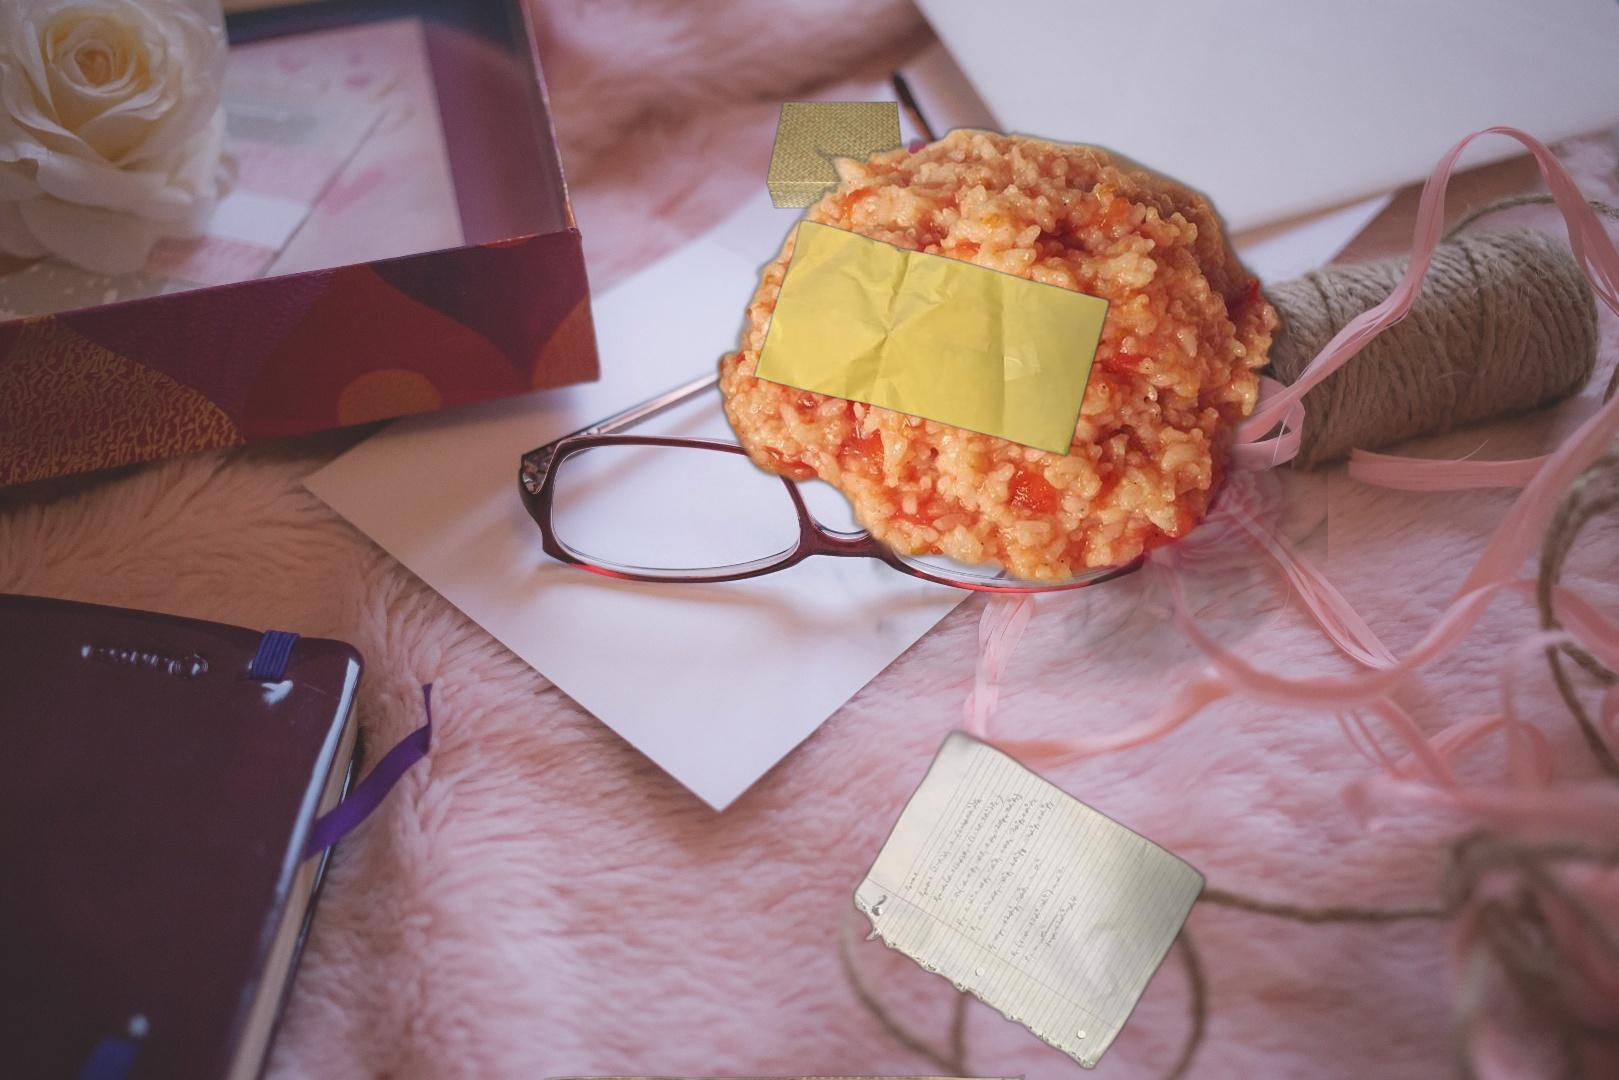biological: (688, 121, 1328, 710)
paper: (850, 721, 1212, 1074), (750, 216, 1115, 459)
trashbox-cardboard: (763, 99, 908, 213), (533, 1072, 1030, 1080)
